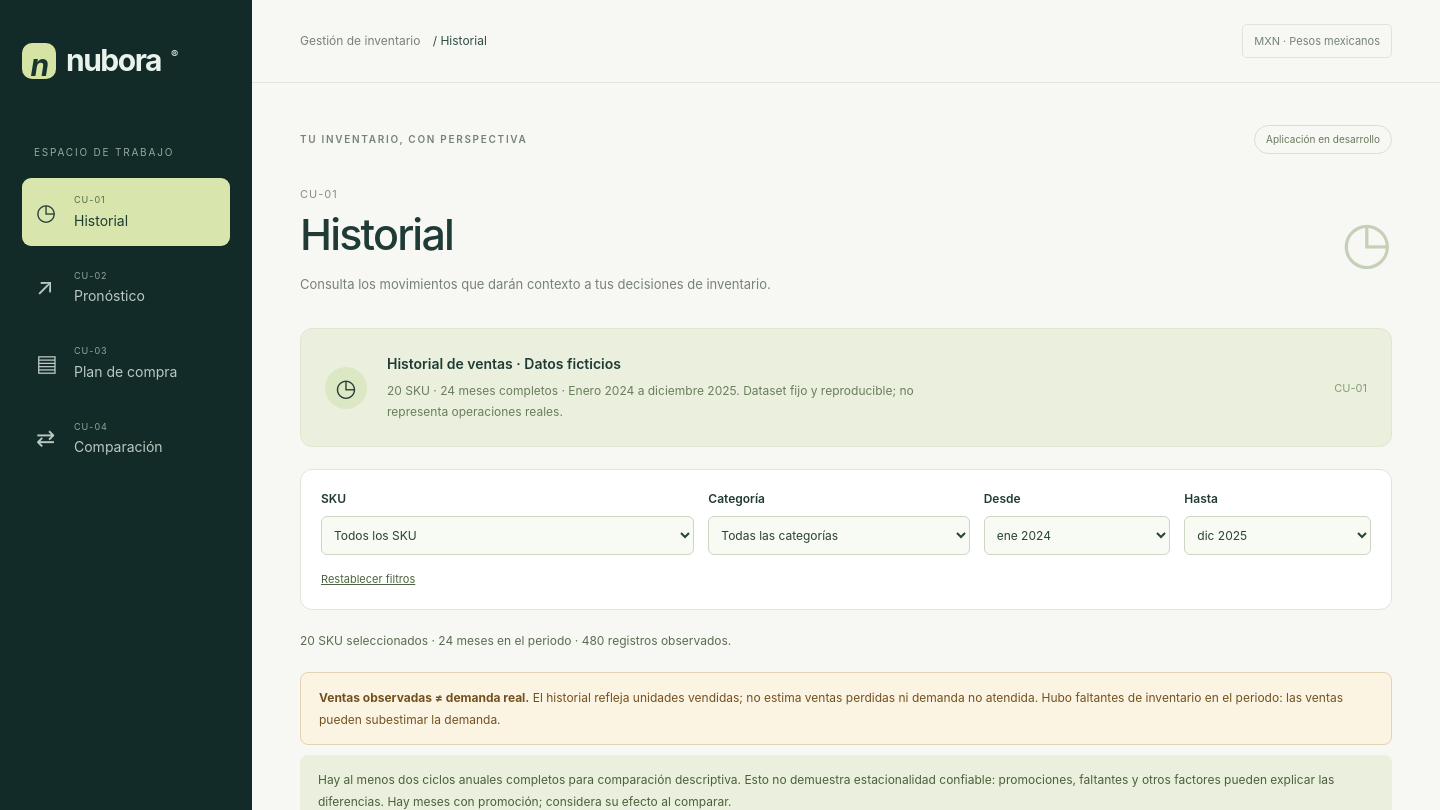
Test case: Nubora › abre CU-02 demostrativo y conserva el acceso a Historial
What coordinates should you click on to do the following:
click the button "↗ CU-02 Pronóstico"
I would click on:
 (126, 287)
Its box is [22,254,230,321].
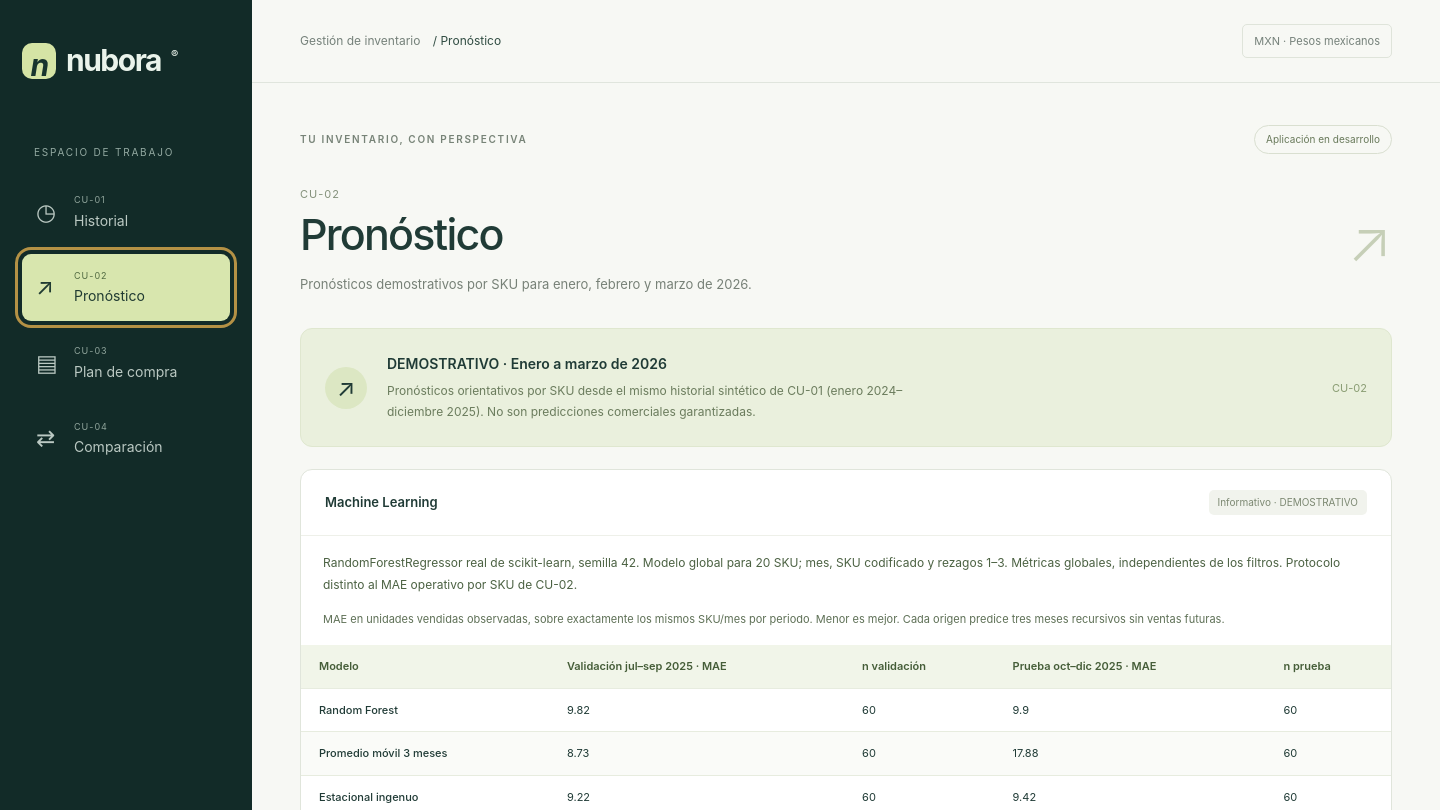
What coordinates should you click on to do the following:
click the button "◷ CU-01 Historial"
I would click on:
 (126, 212)
Its box is [22,178,230,246].
(page scrolled)
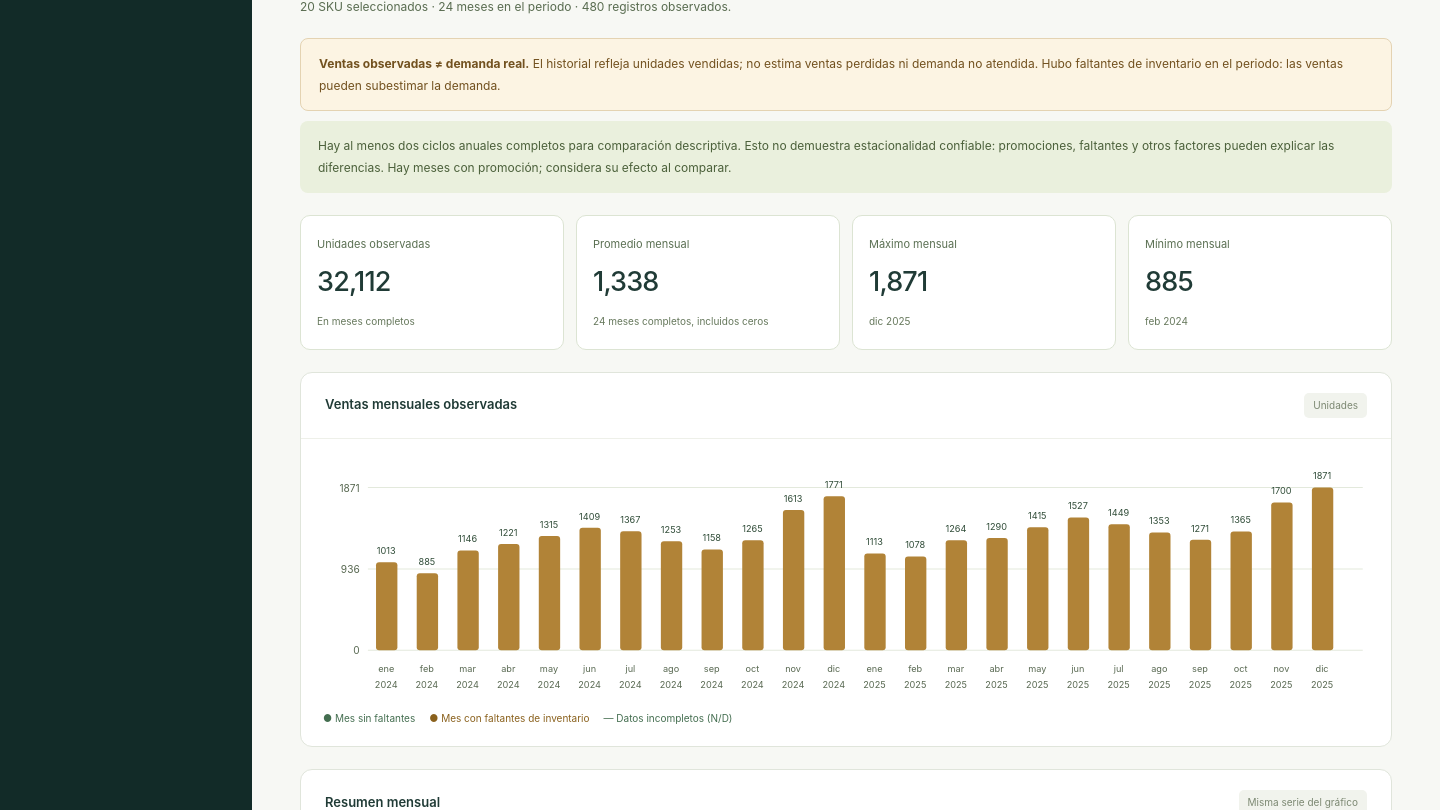
Check: the heading "Ventas mensuales observadas" is shown, box [325,395,517,415]
